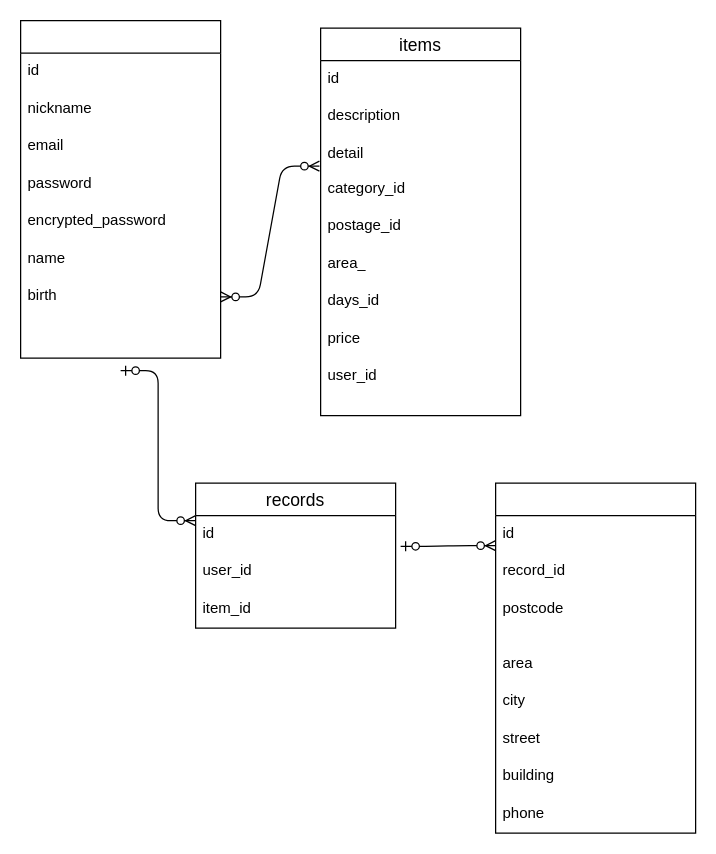
Some shapes in this 716 by 854 pixel diagram are drawn without their labels. Here are the shapes that lost their labels. From the top down, the box of each, then its label:
(19, 19, 221, 358): users
(494, 482, 696, 833): ships
